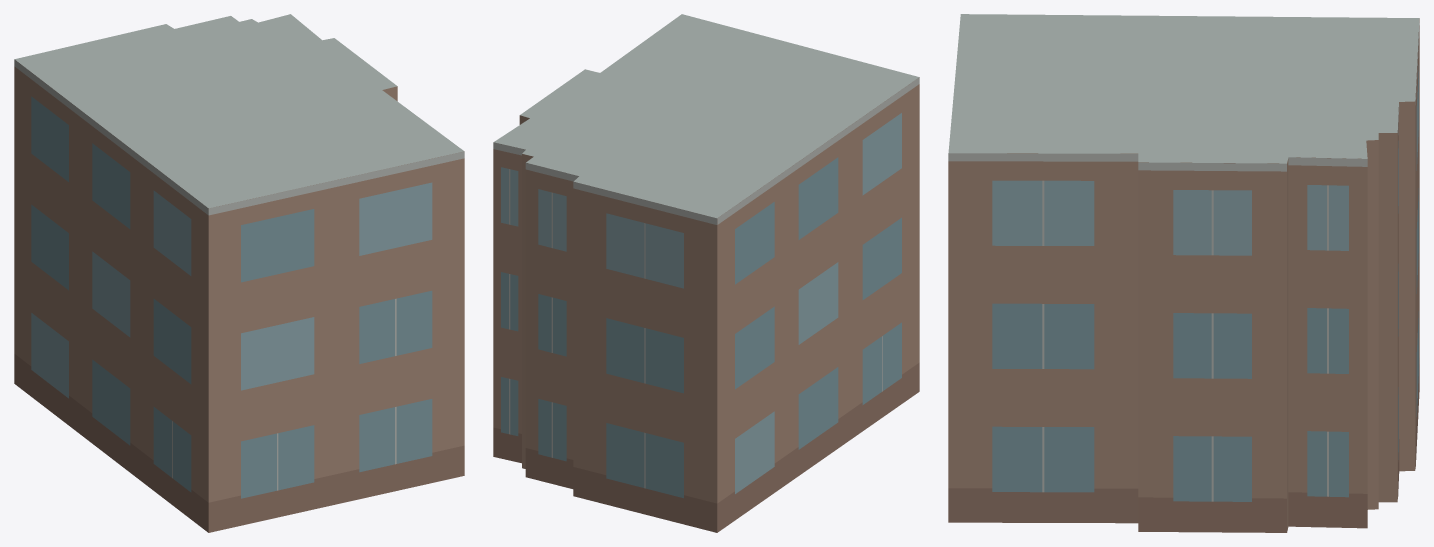
File: survey-upis-32491132.glb
3 renders of one model, left to right at view 1: azimuth 30°, elevation 25°; view 2: azimuth 150°, elevation 25°; view 3: azimuth 270°, elevation 25°, orthographic. The views are drawn at different scales.
Visible parts, largest first — view 1: survey-upis-32491132.tmp; view 2: survey-upis-32491132.tmp; view 3: survey-upis-32491132.tmp.
Boxes of the visible parts, bbox=[...] form: survey-upis-32491132.tmp: bbox=[14, 14, 464, 532]; survey-upis-32491132.tmp: bbox=[493, 14, 919, 532]; survey-upis-32491132.tmp: bbox=[948, 14, 1419, 532].
Bounding box in the file's own units: 9.76 × 11.23 × 12.99.
